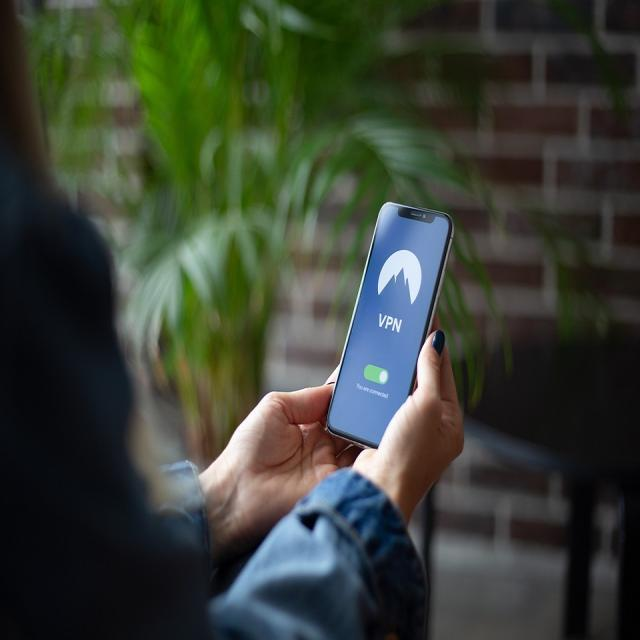Phone: (326, 197, 458, 444)
